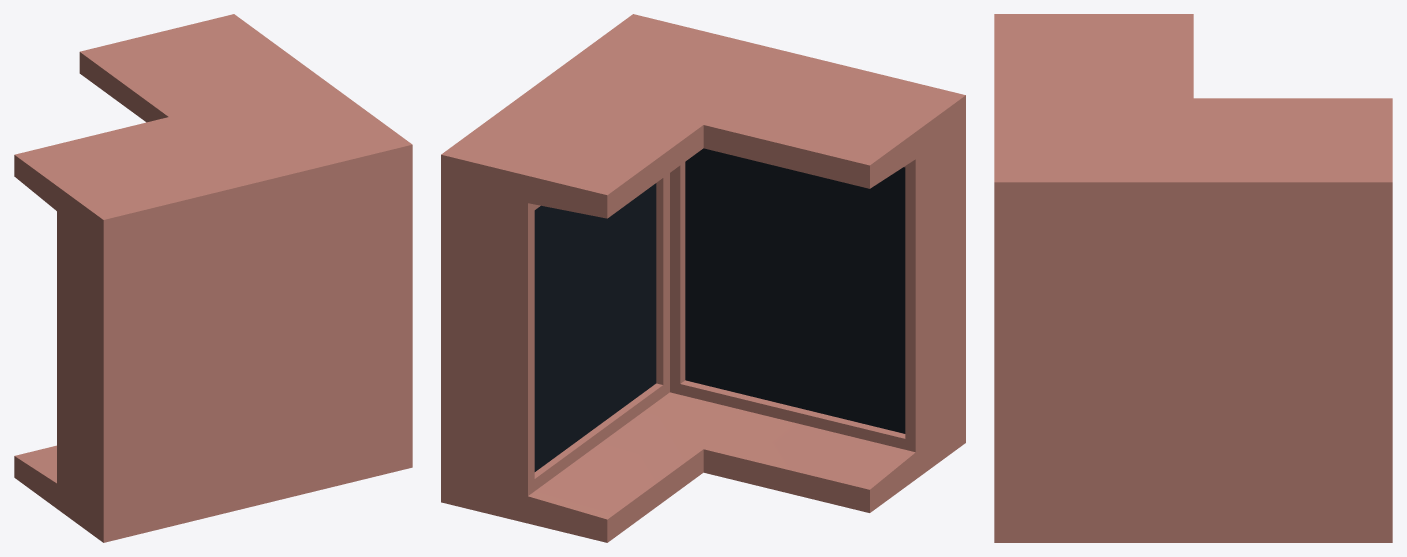
The model's file is BasicWallGlassCornerInner_2x2.fbx.
The picture shows the model from 3 angles, left to right: view 1: azimuth 30°, elevation 25°; view 2: azimuth 150°, elevation 25°; view 3: azimuth 270°, elevation 25°; orthographic projection. The views are drawn at different scales.
Parts seen in each view (by area): view 1: BasicWallGlass1x5CornerInner2h.001; view 2: BasicWallGlass1x5CornerInner2h.001; view 3: BasicWallGlass1x5CornerInner2h.001.
Part boxes in pixels (x1,y1,x2,y2): BasicWallGlass1x5CornerInner2h.001: (14,14,412,542); BasicWallGlass1x5CornerInner2h.001: (441,14,965,542); BasicWallGlass1x5CornerInner2h.001: (994,14,1392,542).
Bounding box in the file's own units: 200 × 200 × 200.
